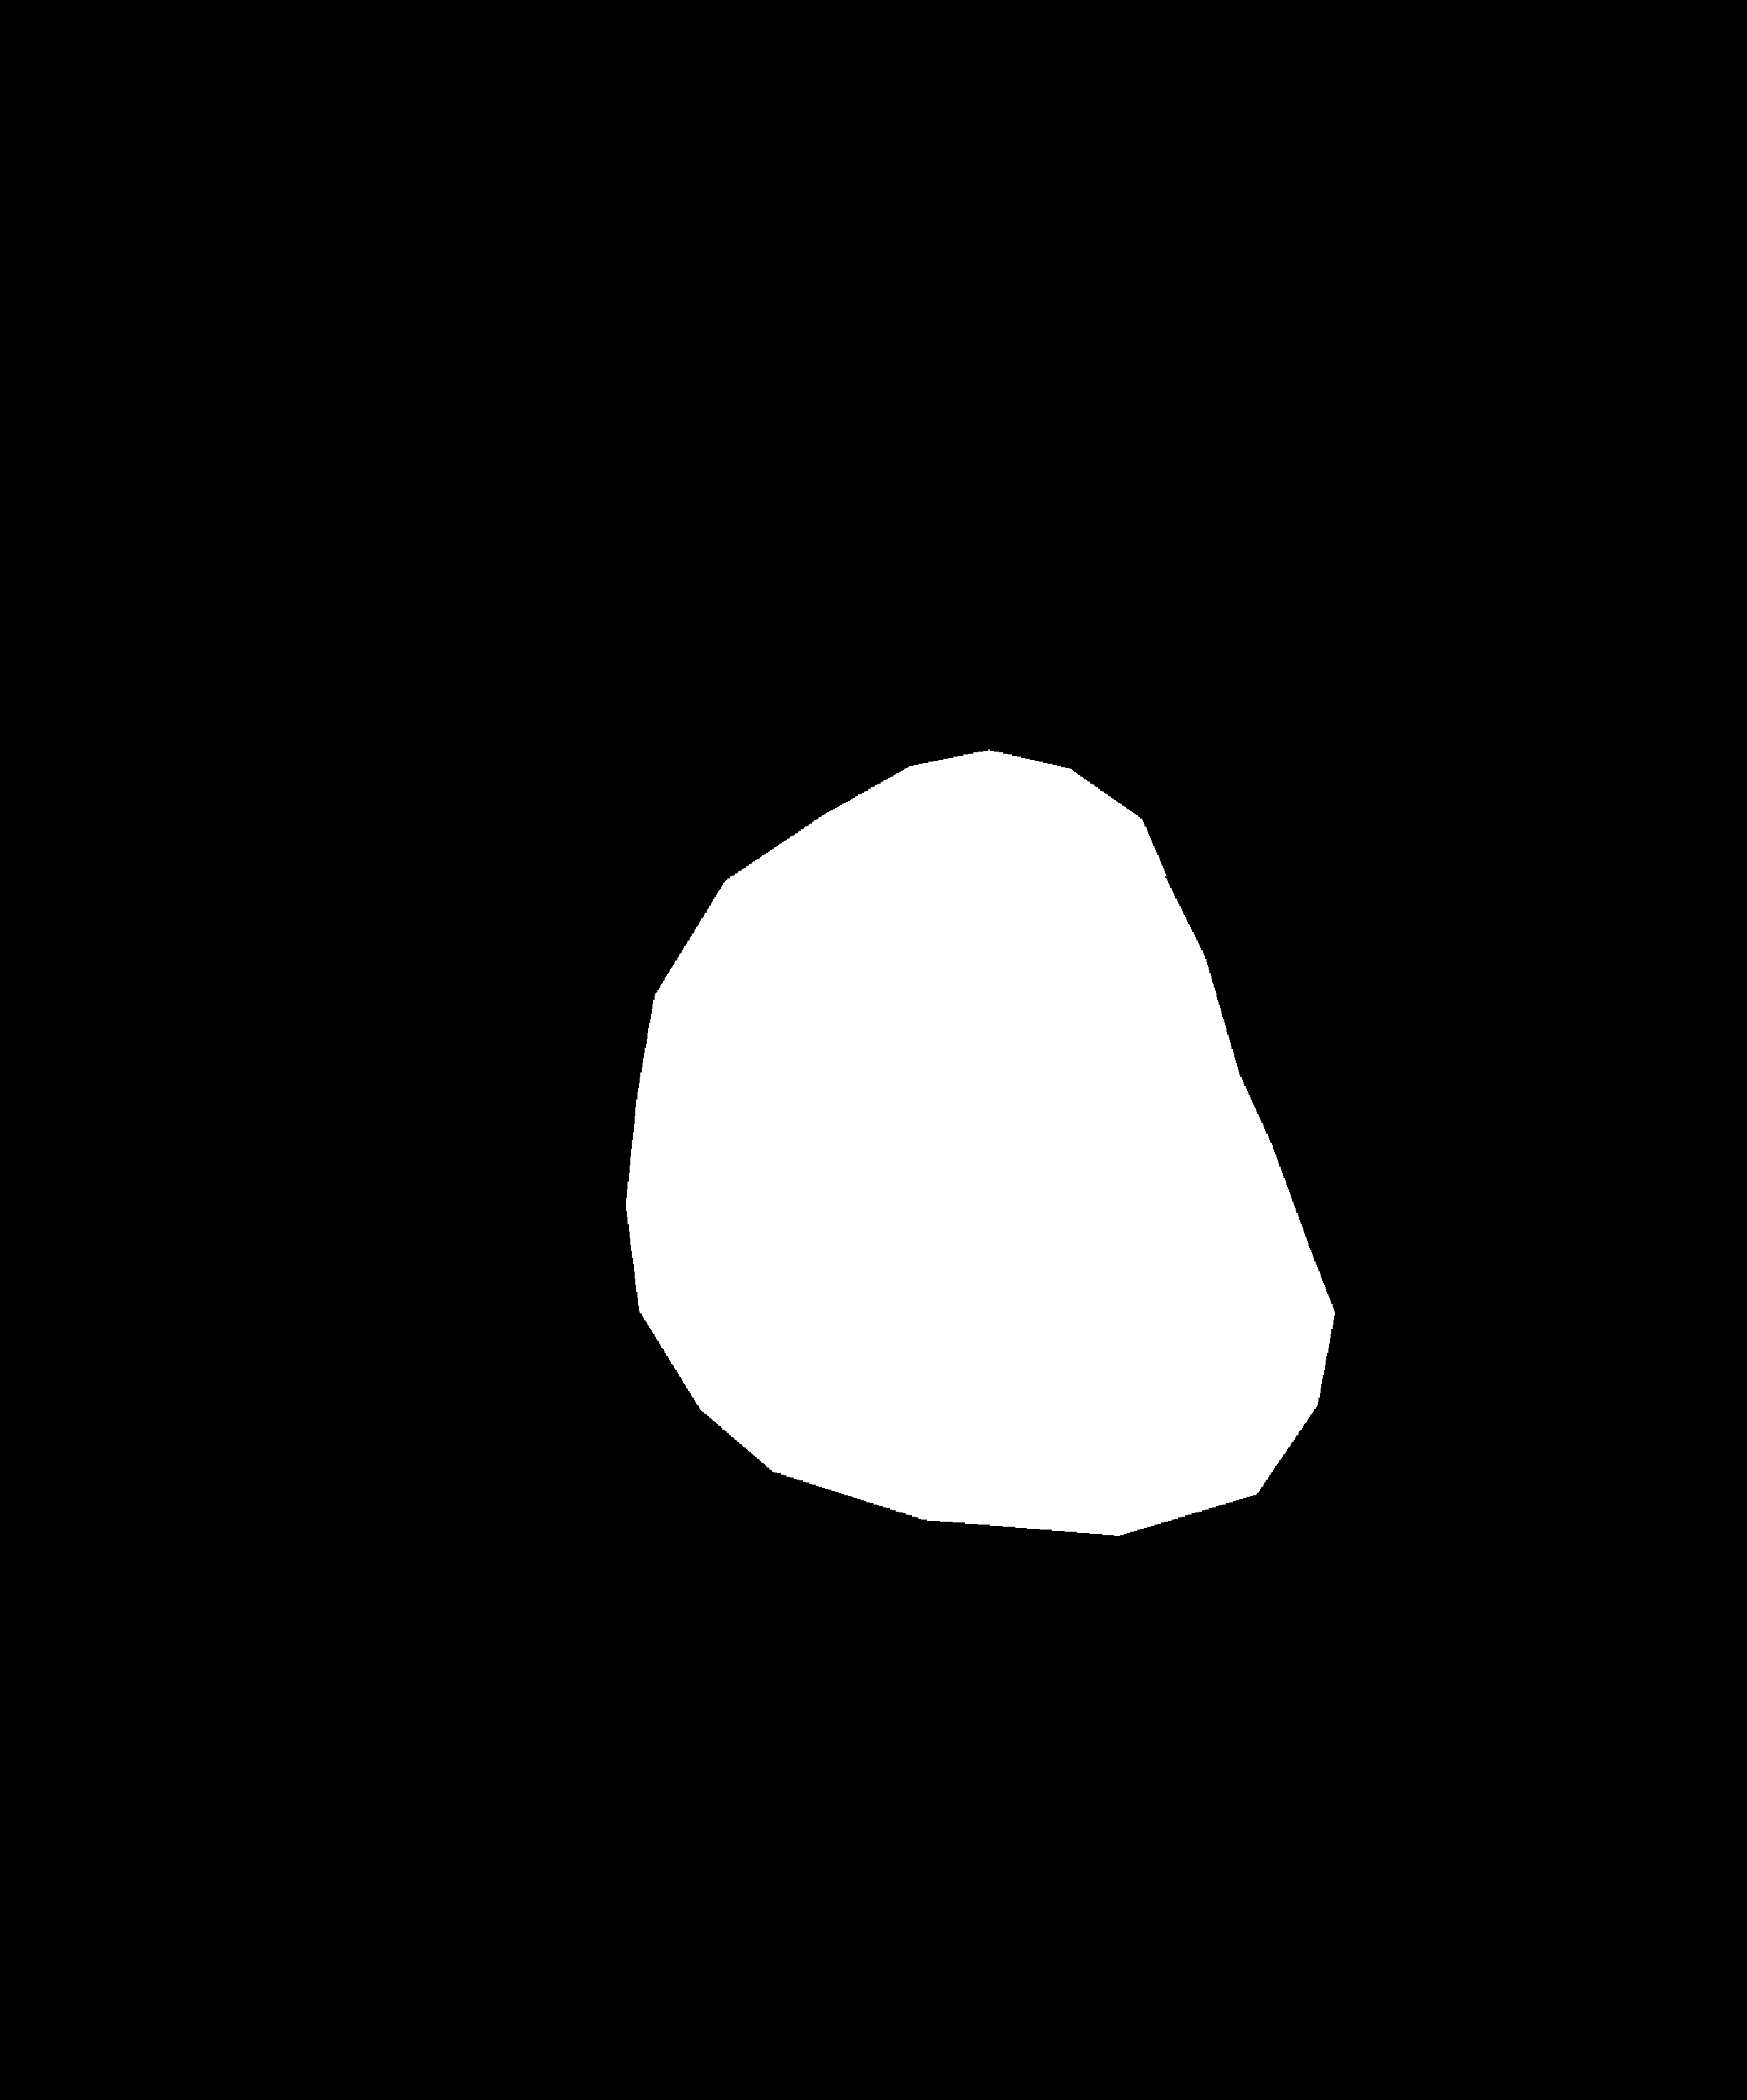heart: (673, 952, 1337, 1507)
left_lung: (148, 180, 804, 1751)
right_lung: (996, 176, 1567, 1462)
